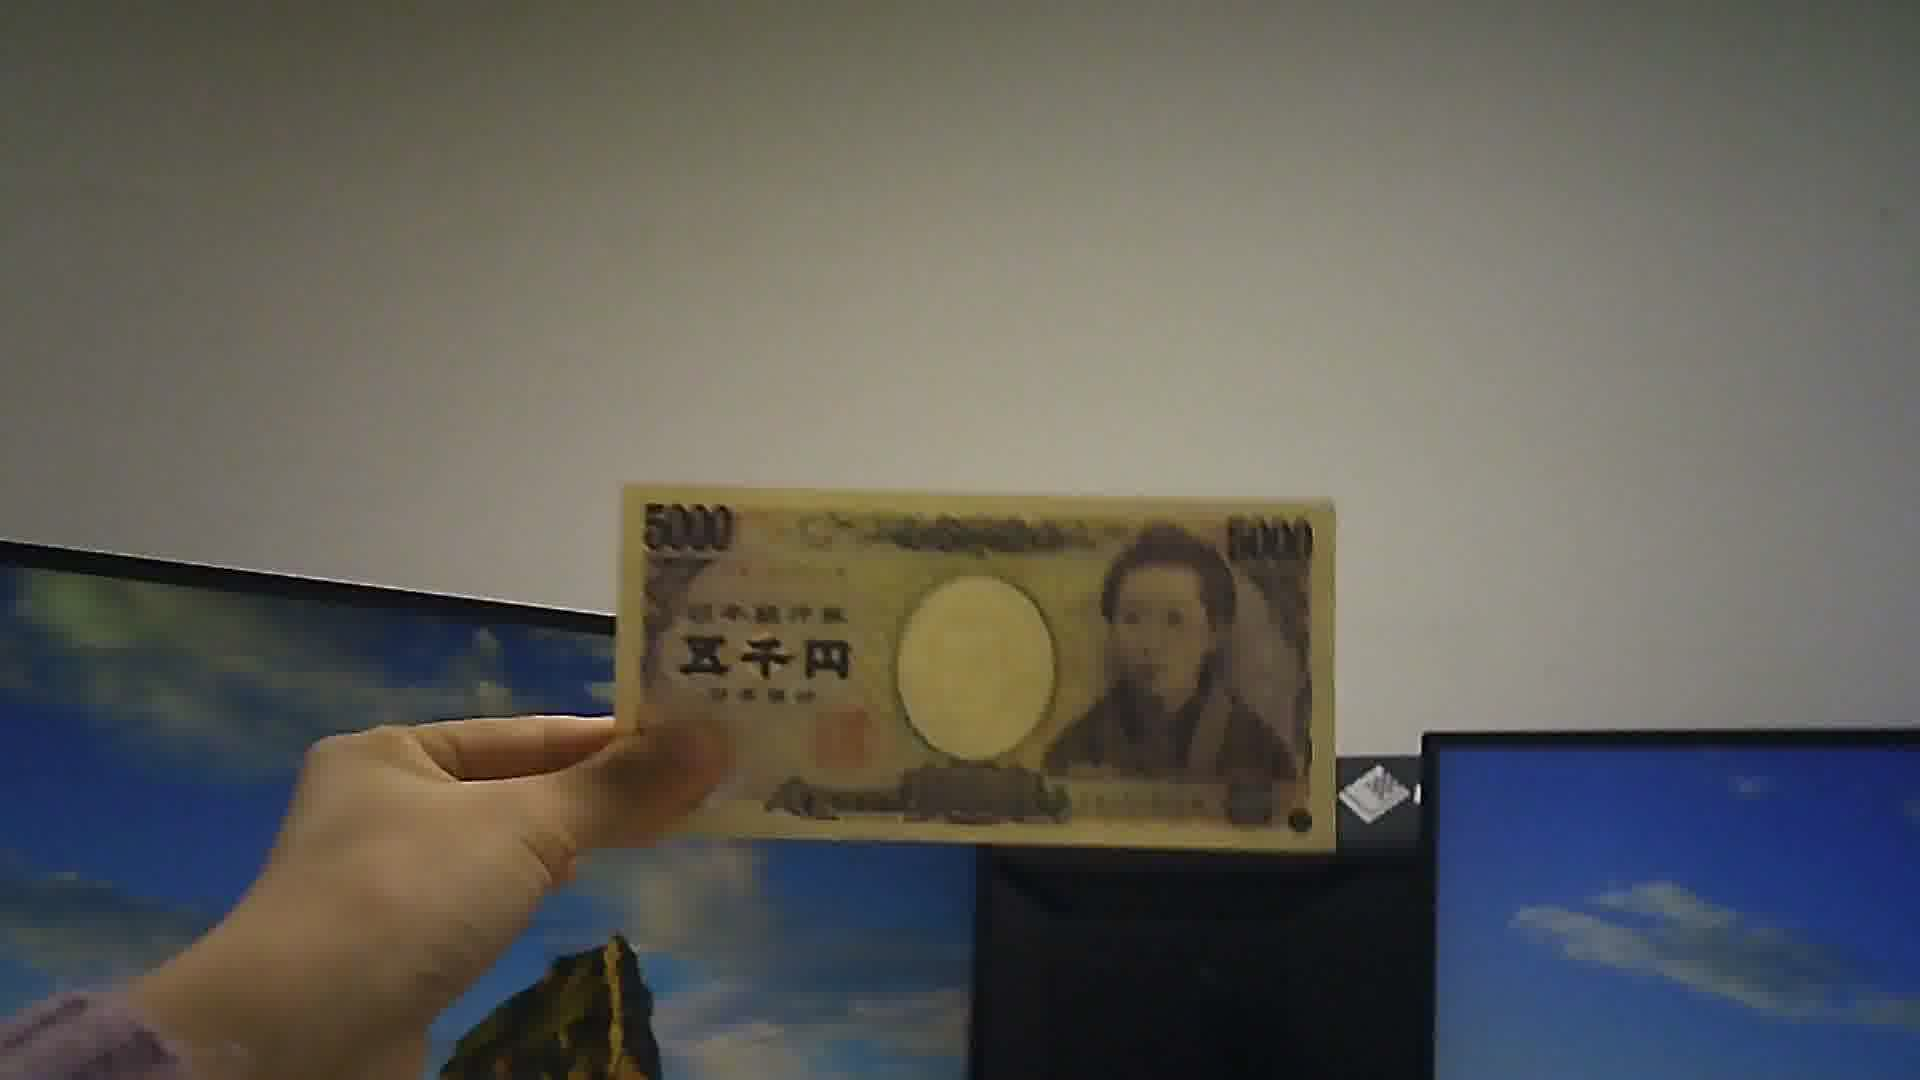5,000 Yen: (597, 469, 1333, 855)
